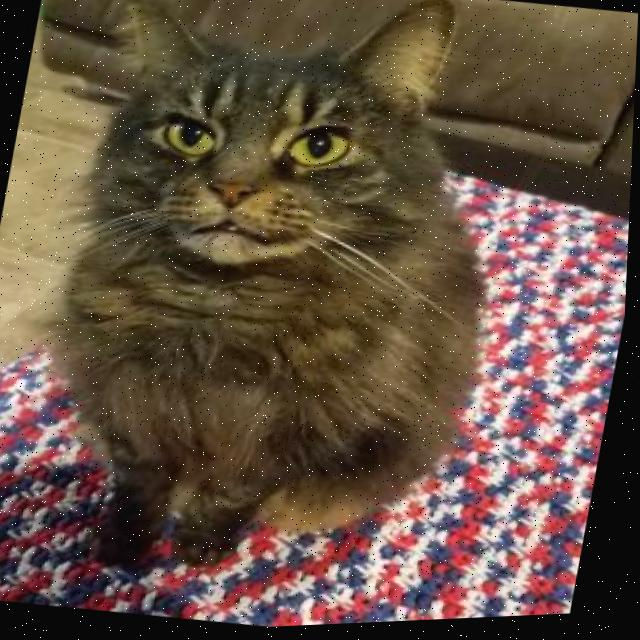Maine Coon: (5, 0, 552, 623)
